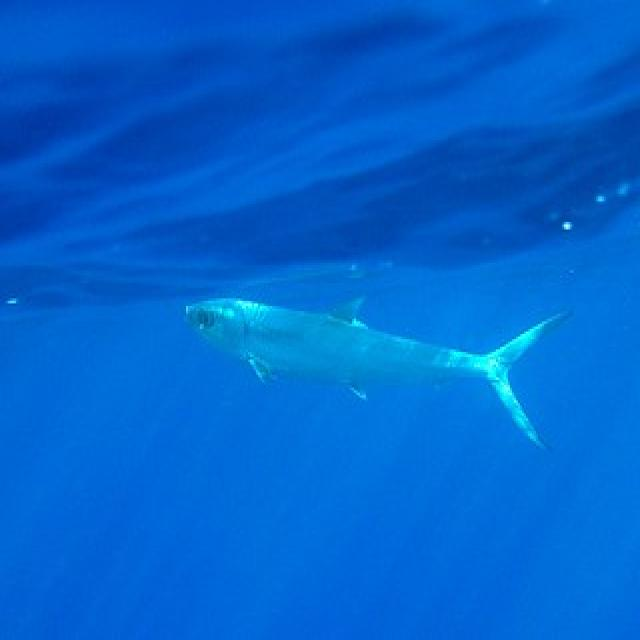Bangus: (151, 250, 629, 529)
